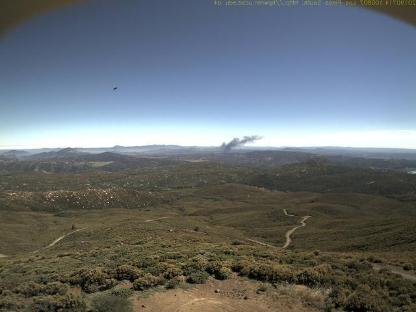smoke: (217, 132, 266, 156)
